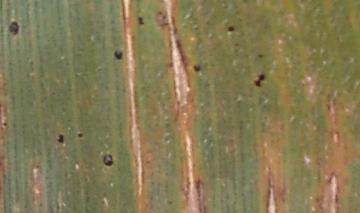tarspot: (253, 72, 266, 89), (7, 19, 19, 36), (102, 152, 114, 167), (113, 47, 123, 61), (55, 132, 65, 145), (136, 15, 145, 27), (226, 25, 235, 35), (75, 131, 84, 140), (192, 63, 200, 72), (256, 52, 264, 60), (2, 121, 7, 128)
